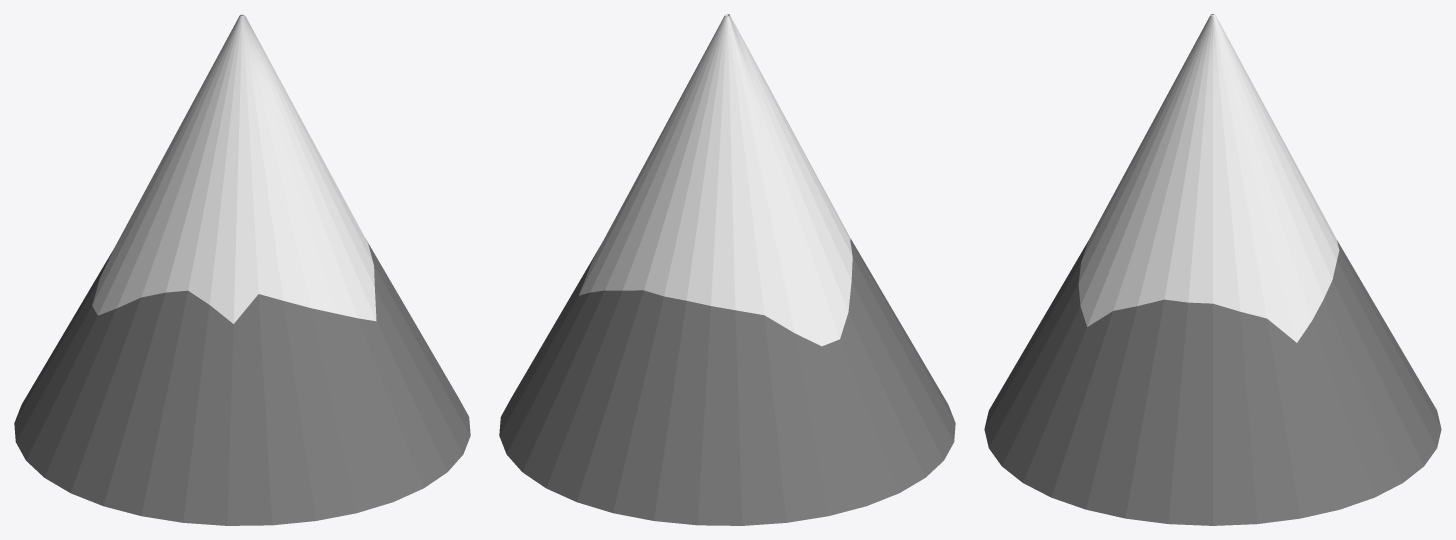
The model's file is Гора.fbx.
3 views of the same model, side by side, from view 1: azimuth 30°, elevation 25°; view 2: azimuth 150°, elevation 25°; view 3: azimuth 270°, elevation 25° (orthographic).
Parts seen in each view (by area): view 1: Цилиндр.341; view 2: Цилиндр.341; view 3: Цилиндр.341.
Boxes of the visible parts, x1,y1,x2,y2 form: Цилиндр.341: (14,14,470,525); Цилиндр.341: (499,14,955,525); Цилиндр.341: (984,14,1441,525).
Bounding box in the file's own units: 665 × 665 × 665.
